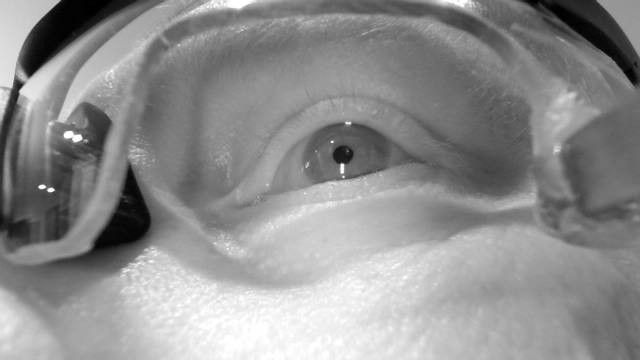pupil: (333, 145, 354, 165)
